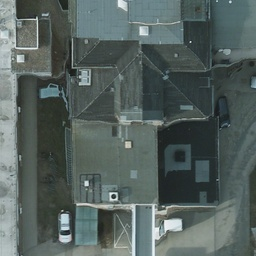car: (57, 209, 74, 245)
